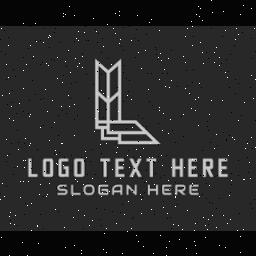e: (114, 153, 126, 179)
g: (57, 156, 71, 178)
h: (172, 154, 184, 178)
l: (88, 47, 164, 149), (25, 152, 41, 180)
o: (73, 154, 87, 178)
r: (200, 156, 216, 178)
t: (97, 154, 113, 178)
x: (128, 154, 144, 178)
